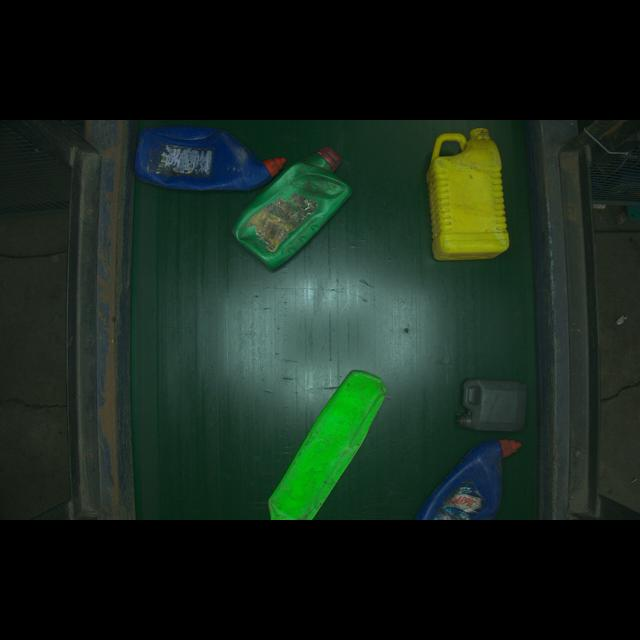mix hd: (247, 366, 404, 518), (227, 150, 382, 262), (421, 120, 530, 270), (130, 119, 279, 193), (447, 369, 539, 441)
